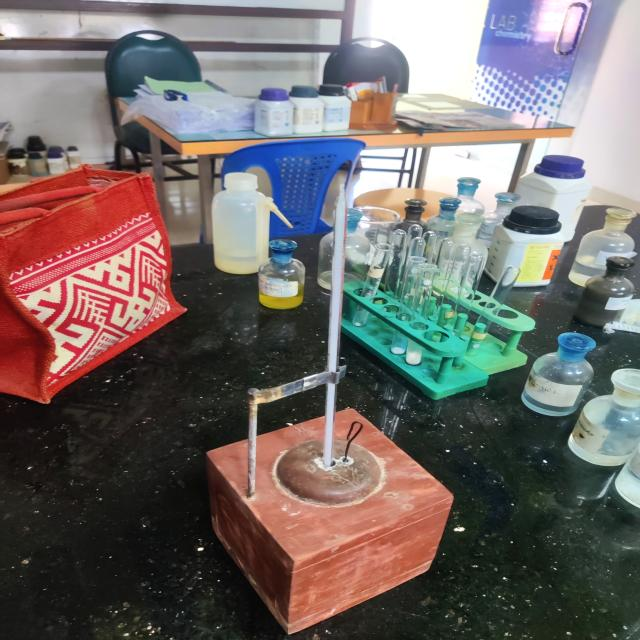Calorimeter: (186, 175, 464, 636)
